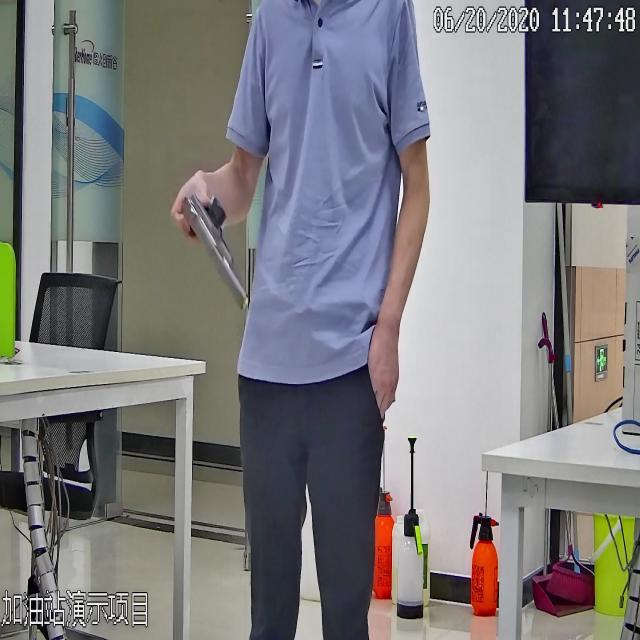gun-knife-thesis - v11 Yolov5 augmented: (180, 181, 251, 307)
